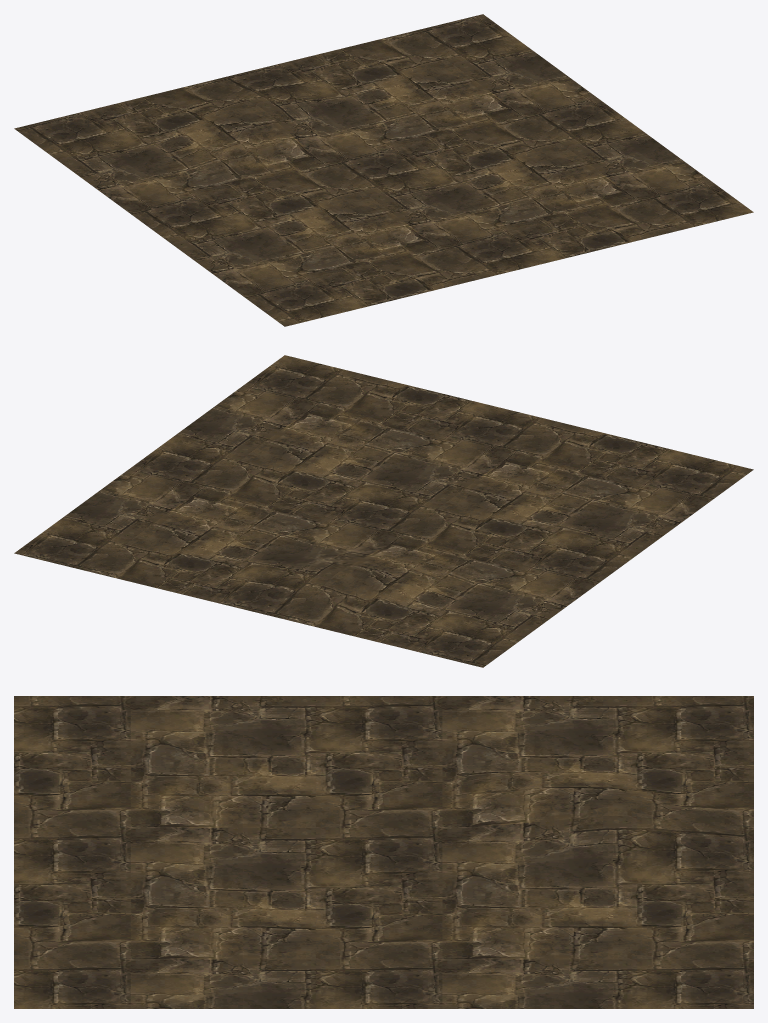
Rendered from 10401_building01.FBX.
3 renders of one model, top to bottom at view 1: azimuth 30°, elevation 25°; view 2: azimuth 150°, elevation 25°; view 3: azimuth 270°, elevation 25°, orthographic. The views are drawn at different scales.
Visible parts, largest first — view 1: 10401_building01; view 2: 10401_building01; view 3: 10401_building01.
Boxes of the visible parts, left/top/right/bottom form: 10401_building01: left=14, top=14, right=753, bottom=326; 10401_building01: left=14, top=355, right=753, bottom=667; 10401_building01: left=14, top=696, right=753, bottom=1008.
Size of the model in its own units: 1000 by 25.95 by 1000.
